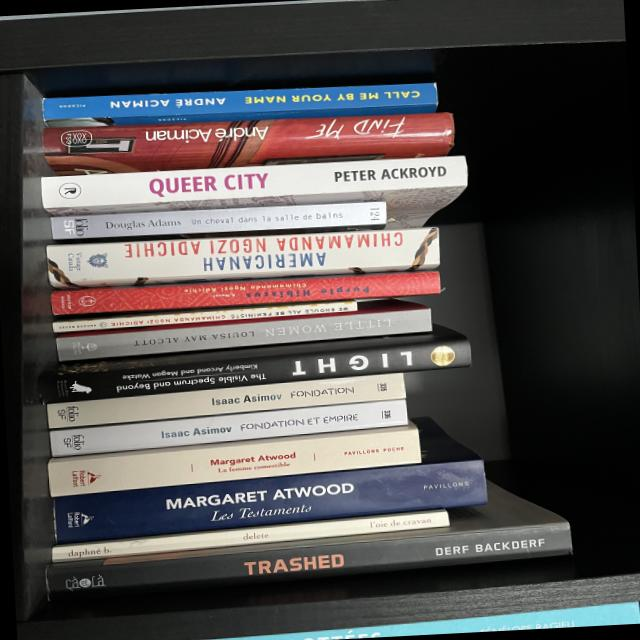book: (41, 476, 572, 601), (48, 412, 488, 545), (35, 322, 472, 407), (40, 156, 468, 242), (41, 107, 455, 177), (46, 422, 421, 498), (54, 296, 431, 362), (46, 226, 439, 289), (48, 397, 408, 458), (51, 508, 448, 563), (45, 372, 405, 430), (41, 82, 438, 129), (50, 270, 441, 315), (49, 201, 387, 243), (51, 298, 356, 334)
